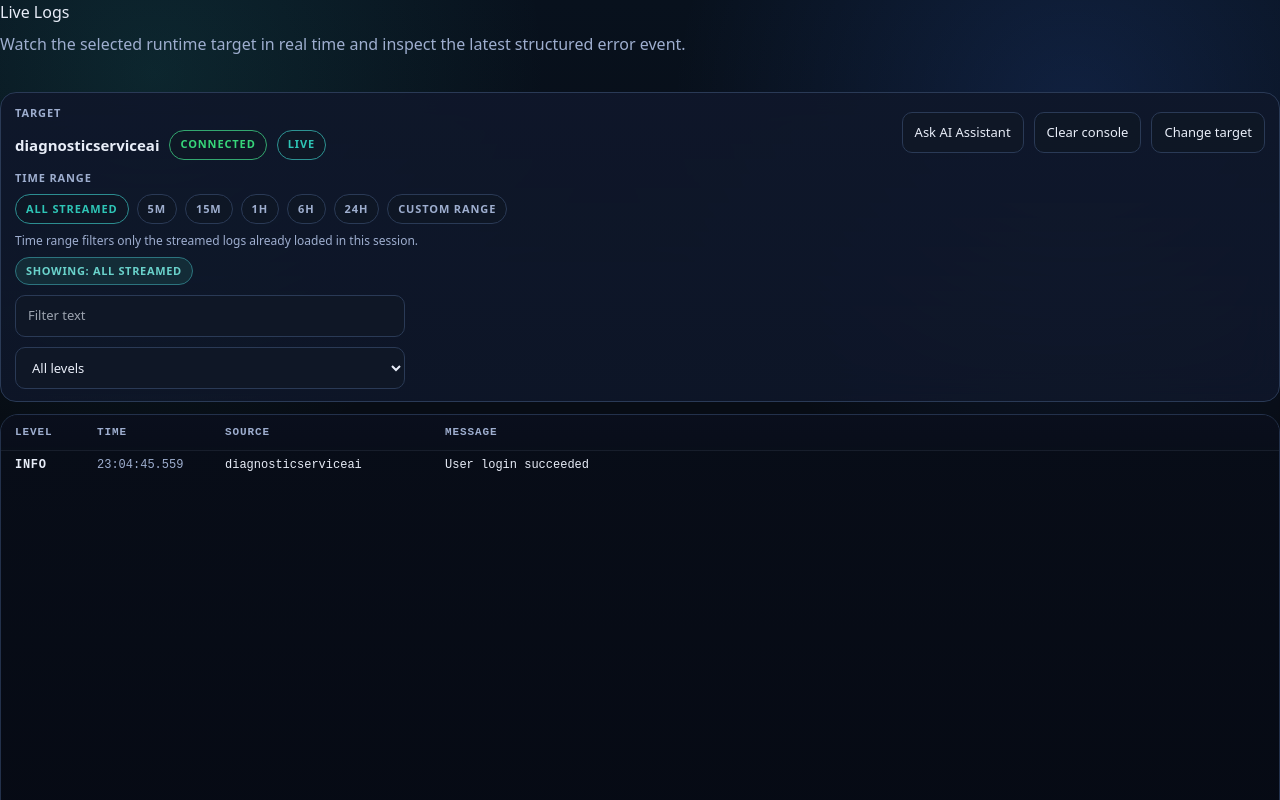
LiveLogsPage › submits the last visible log lines to the AI assistant and renders the diagnosis
The width and height of the screenshot is (1280, 800).
Click the button "Ask AI Assistant". click: (963, 132)
box: [902,112,1024,153]
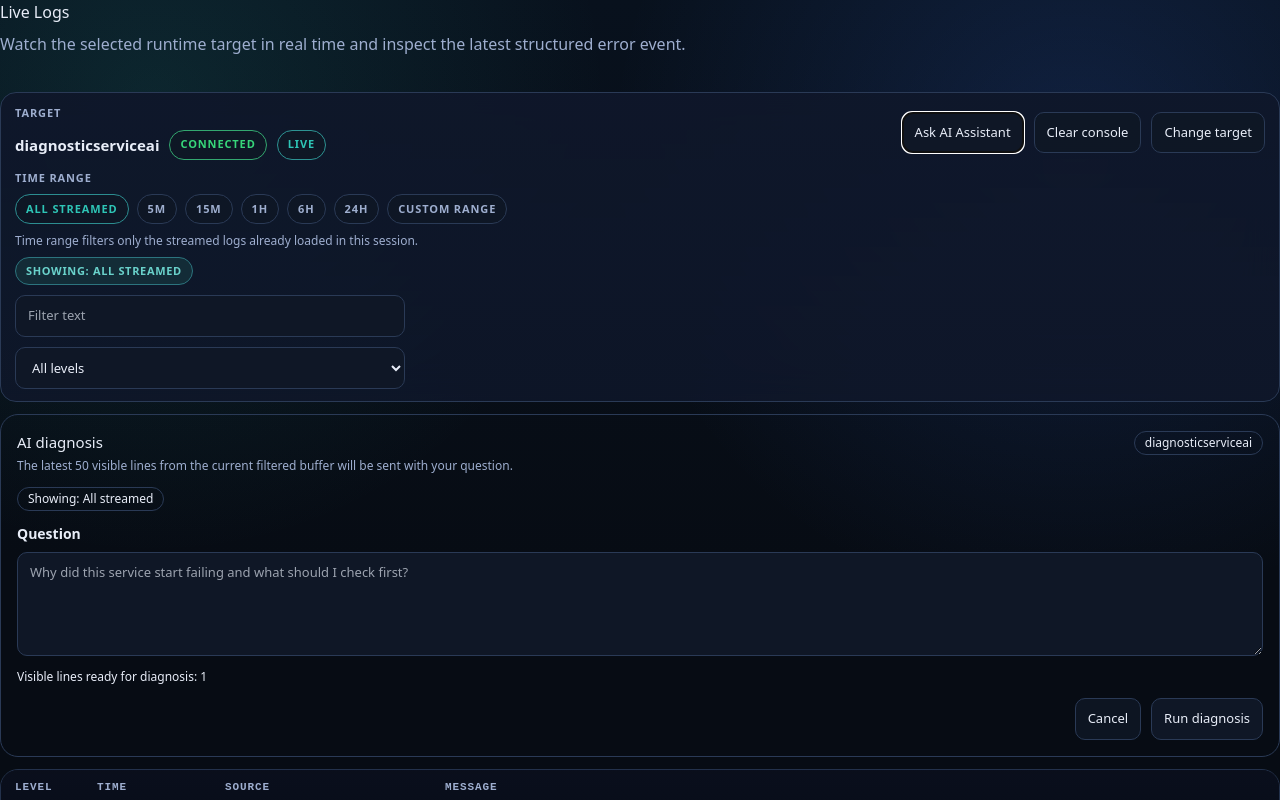
Click the button "15m". click: (209, 209)
box: [185,194,233,224]
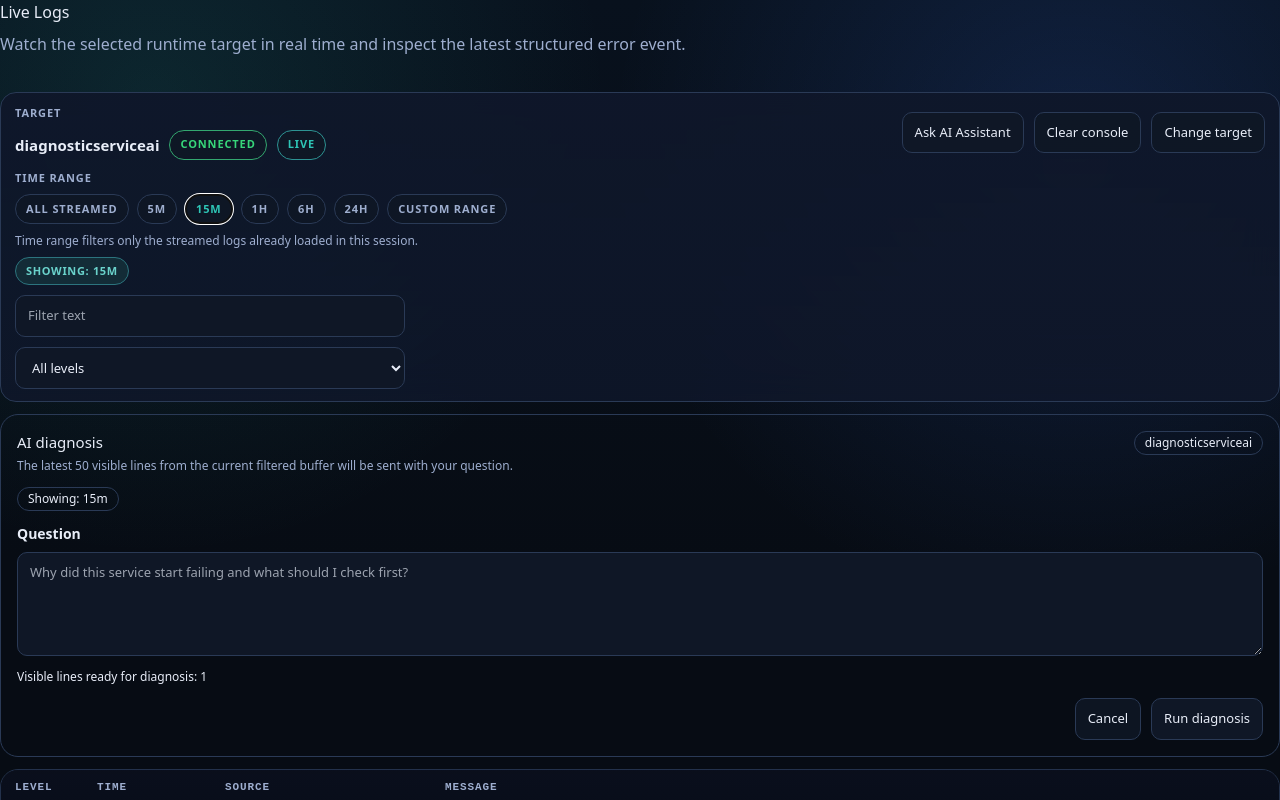
Type "Why did this fail?" into the text box labelled "Question". click: (640, 604)
box: [17,552,1263,656]
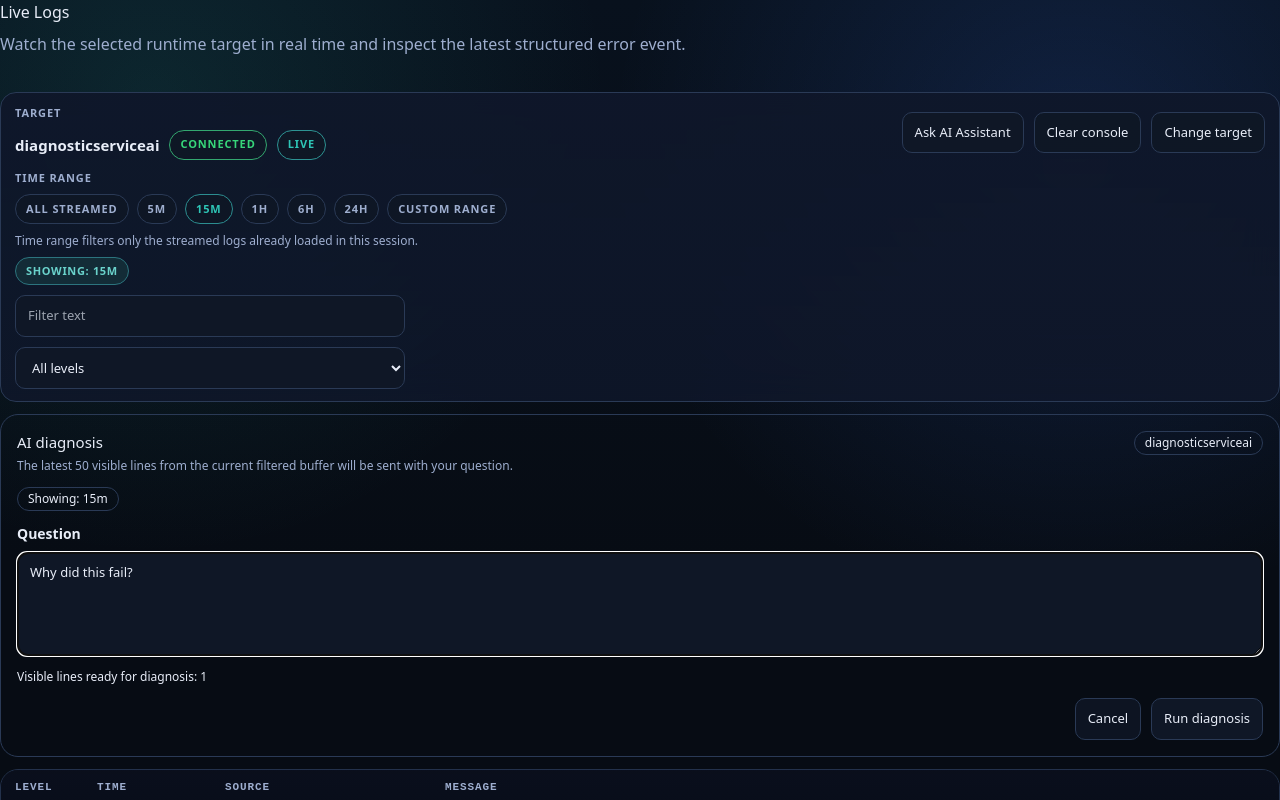
Click the button "Run diagnosis". click: (1207, 719)
box: [1151,698,1263,740]
(page scrolled)
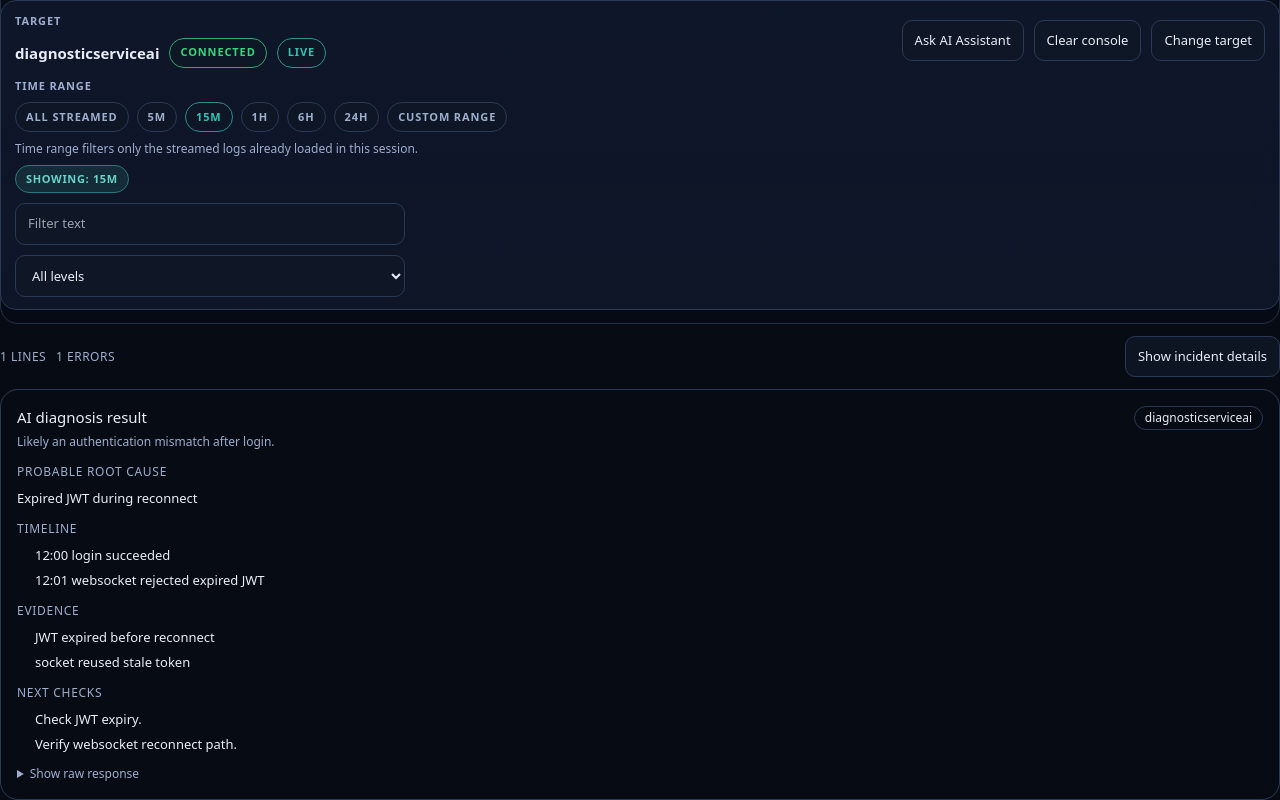
Check: the text "Likely an authentication mismatch after login." is shown, box [17,433,274,451]
Check: the text "Expired JWT during reconnect" is shown, box [17,489,198,507]
Check: the list item "12:01 websocket rejected expired JWT" is shown, box [35,571,265,589]
